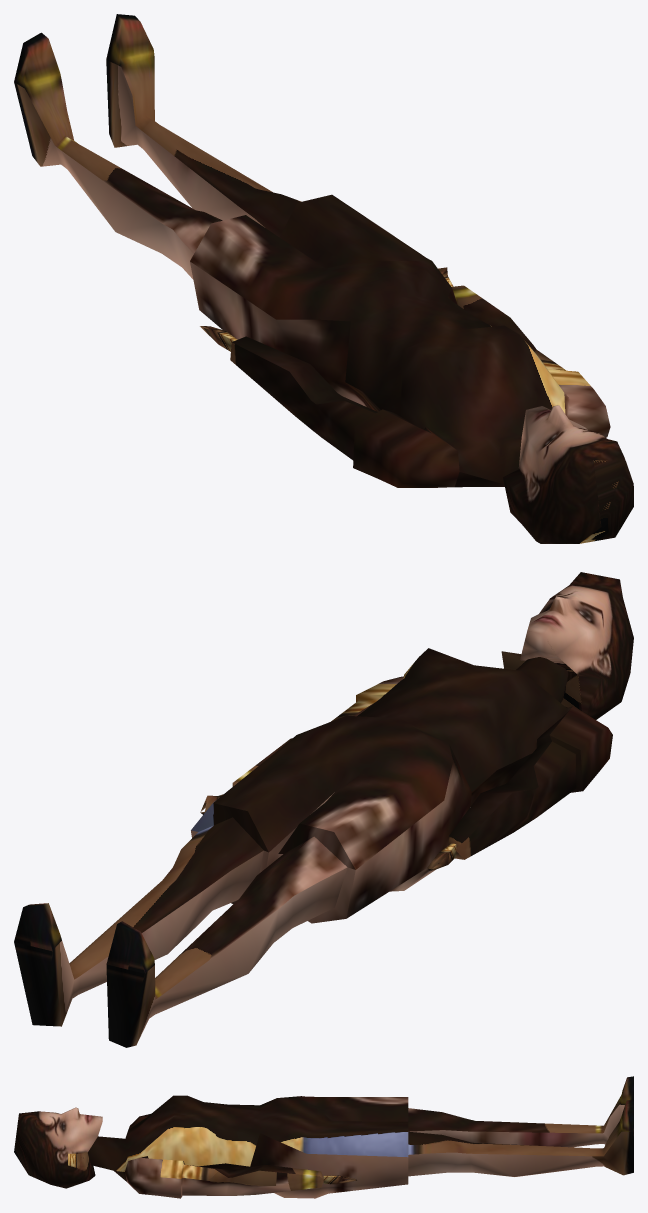
File: npc_maya.obj
3 renders of one model, top to bottom at view 1: azimuth 30°, elevation 25°; view 2: azimuth 150°, elevation 25°; view 3: azimuth 270°, elevation 25°, orthographic. The views are drawn at different scales.
Parts seen in each view (by area): view 1: npc_maya; view 2: npc_maya; view 3: npc_maya.
Part boxes in pixels (x1,y1,x2,y2): npc_maya: [14, 14, 633, 543]; npc_maya: [14, 572, 633, 1047]; npc_maya: [14, 1076, 633, 1198].
Bounding box in the file's own units: 0.4588 × 0.3043 × 1.75.
Materials: 1 (1 with a texture image).
